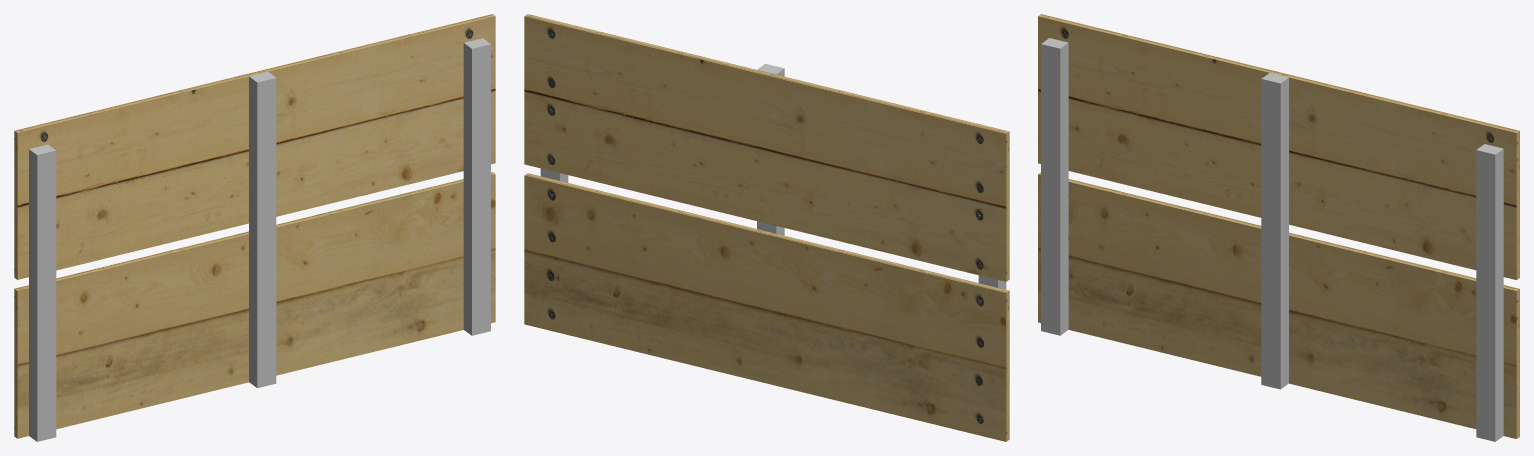
The model's file is Wood3.FBX.
3 views of the same model, side by side, from view 1: azimuth 30°, elevation 25°; view 2: azimuth 150°, elevation 25°; view 3: azimuth 330°, elevation 25° (orthographic).
Parts seen in each view (by area): view 1: propwood_nor; view 2: propwood_nor; view 3: propwood_nor.
Part boxes in pixels (x1,y1,x2,y2): propwood_nor: (14,14,495,441); propwood_nor: (524,14,1009,441); propwood_nor: (1038,14,1519,441).
Bounding box in the file's own units: 78.74 × 48.12 × 3.3.
